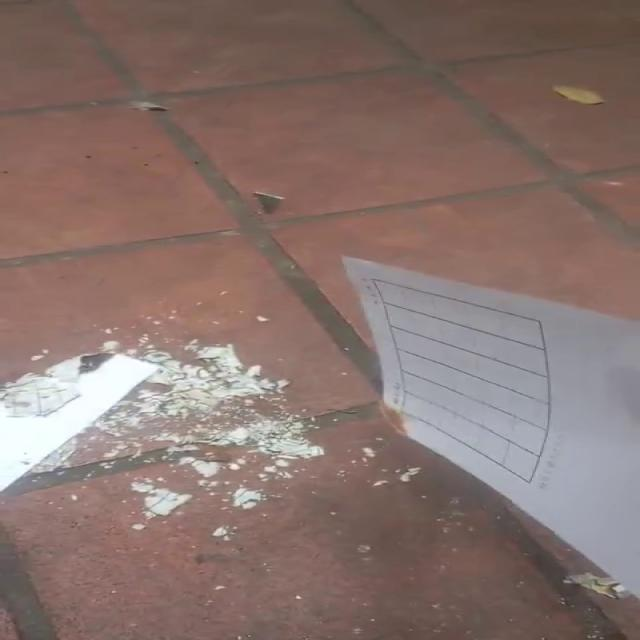Fire_Dangerous: (370, 396, 406, 442)
